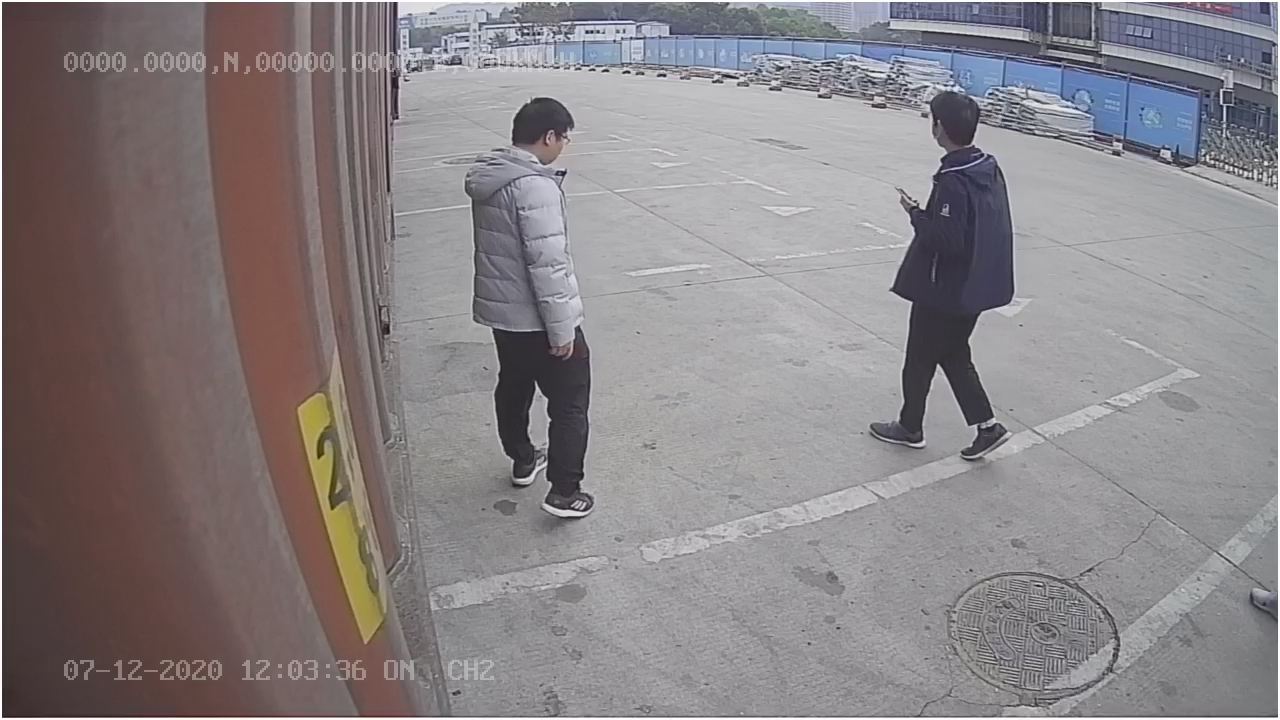person: (458, 88, 609, 519), (865, 86, 1024, 460)
